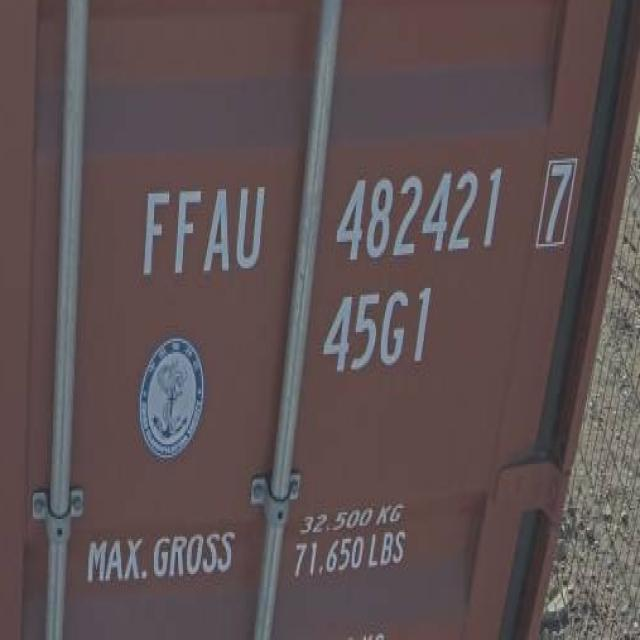dv: (534, 145, 575, 258)
owner: (138, 174, 270, 289)
serial: (329, 152, 505, 268)
size: (309, 280, 446, 384)
